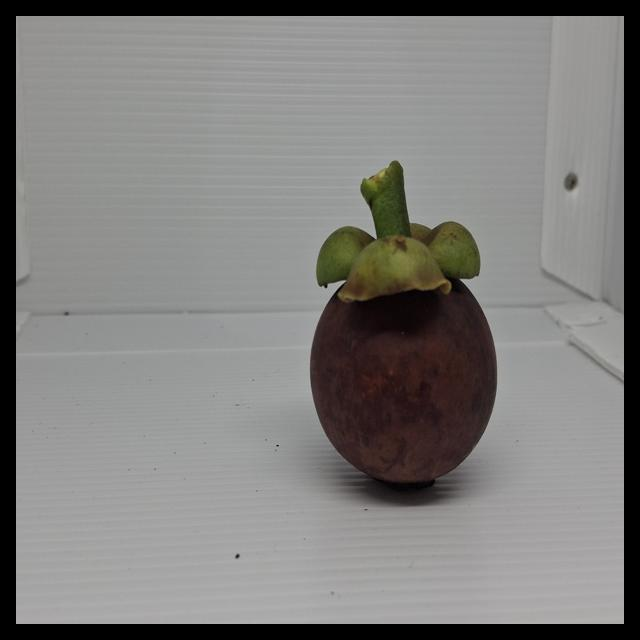mangosteen: (270, 160, 543, 532)
